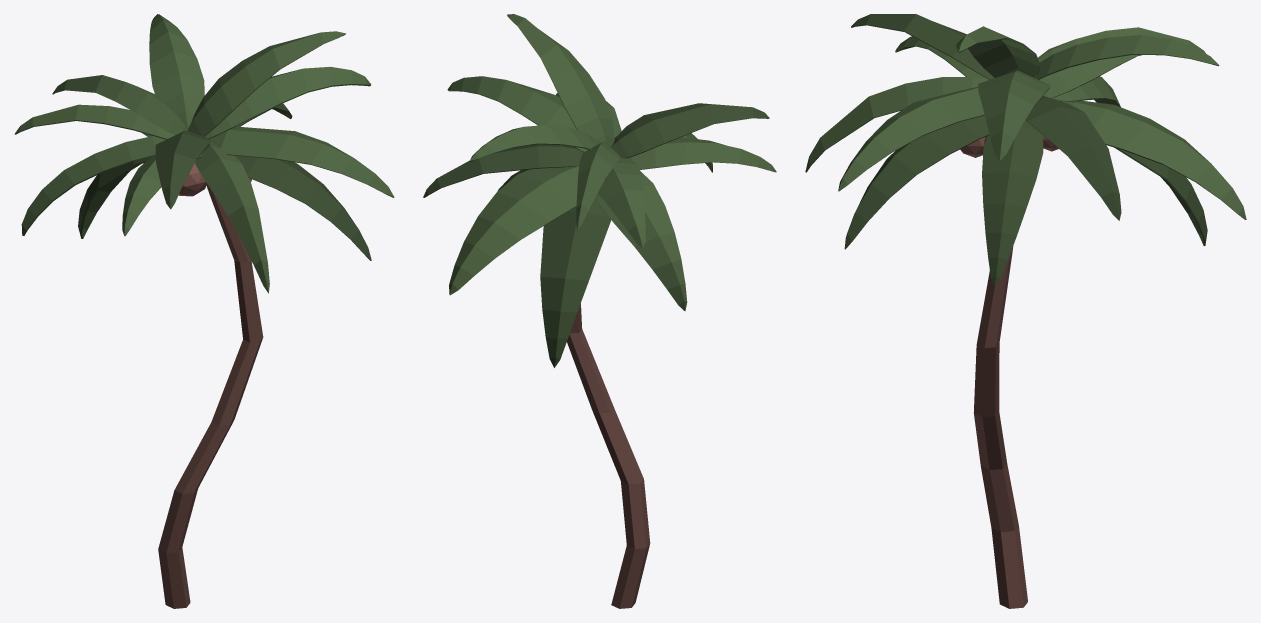
File: PalmTree_4.glb
3 renders of one model, left to right at view 1: azimuth 30°, elevation 25°; view 2: azimuth 150°, elevation 25°; view 3: azimuth 270°, elevation 25°, orthographic. The views are drawn at different scales.
Parts seen in each view (by area): view 1: PalmTree_4_Cylinder.041; view 2: PalmTree_4_Cylinder.041; view 3: PalmTree_4_Cylinder.041.
Part boxes in pixels (x1,y1,x2,y2): PalmTree_4_Cylinder.041: (14,14,394,608); PalmTree_4_Cylinder.041: (423,14,776,608); PalmTree_4_Cylinder.041: (805,14,1246,608).
Size of the model in its own units: 1.81 by 3.25 by 2.05.
